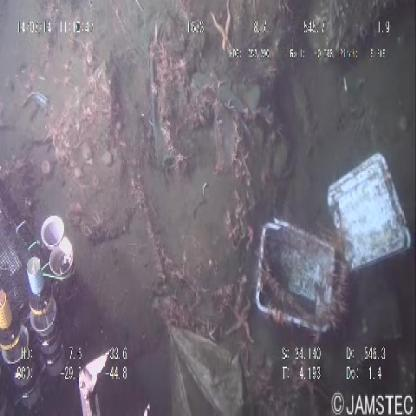Rov: (1, 140, 158, 416)
Rác: (248, 135, 416, 363)
